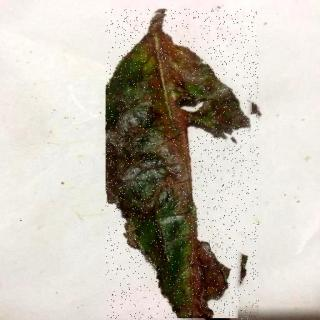Red Leaf Spot: (108, 10, 261, 320)
